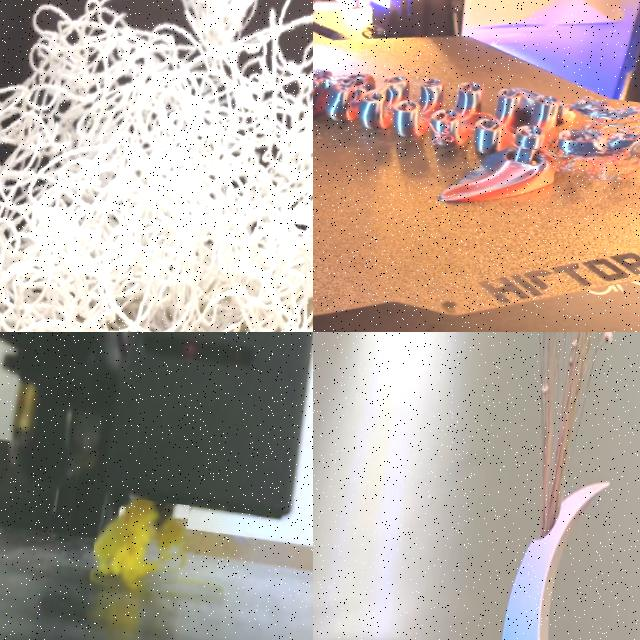spaghetti: (0, 0, 313, 332), (550, 93, 640, 216), (93, 498, 184, 584)
